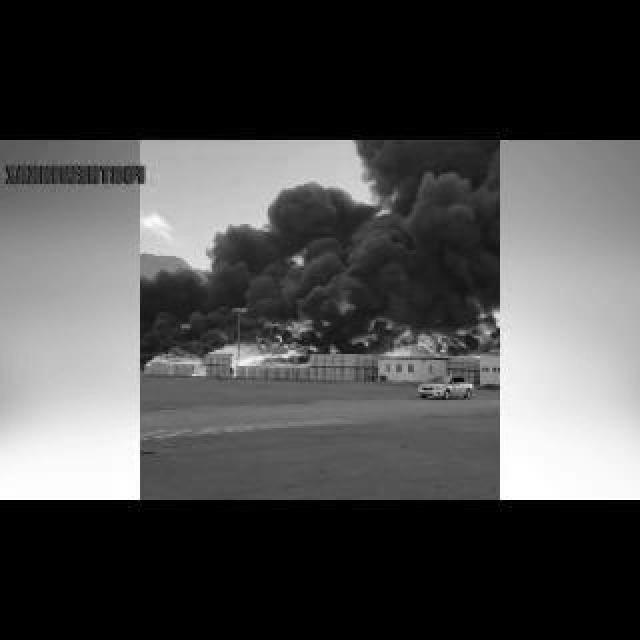Fire: (376, 312, 496, 356), (148, 336, 312, 364)
Smoke: (140, 139, 500, 329)
